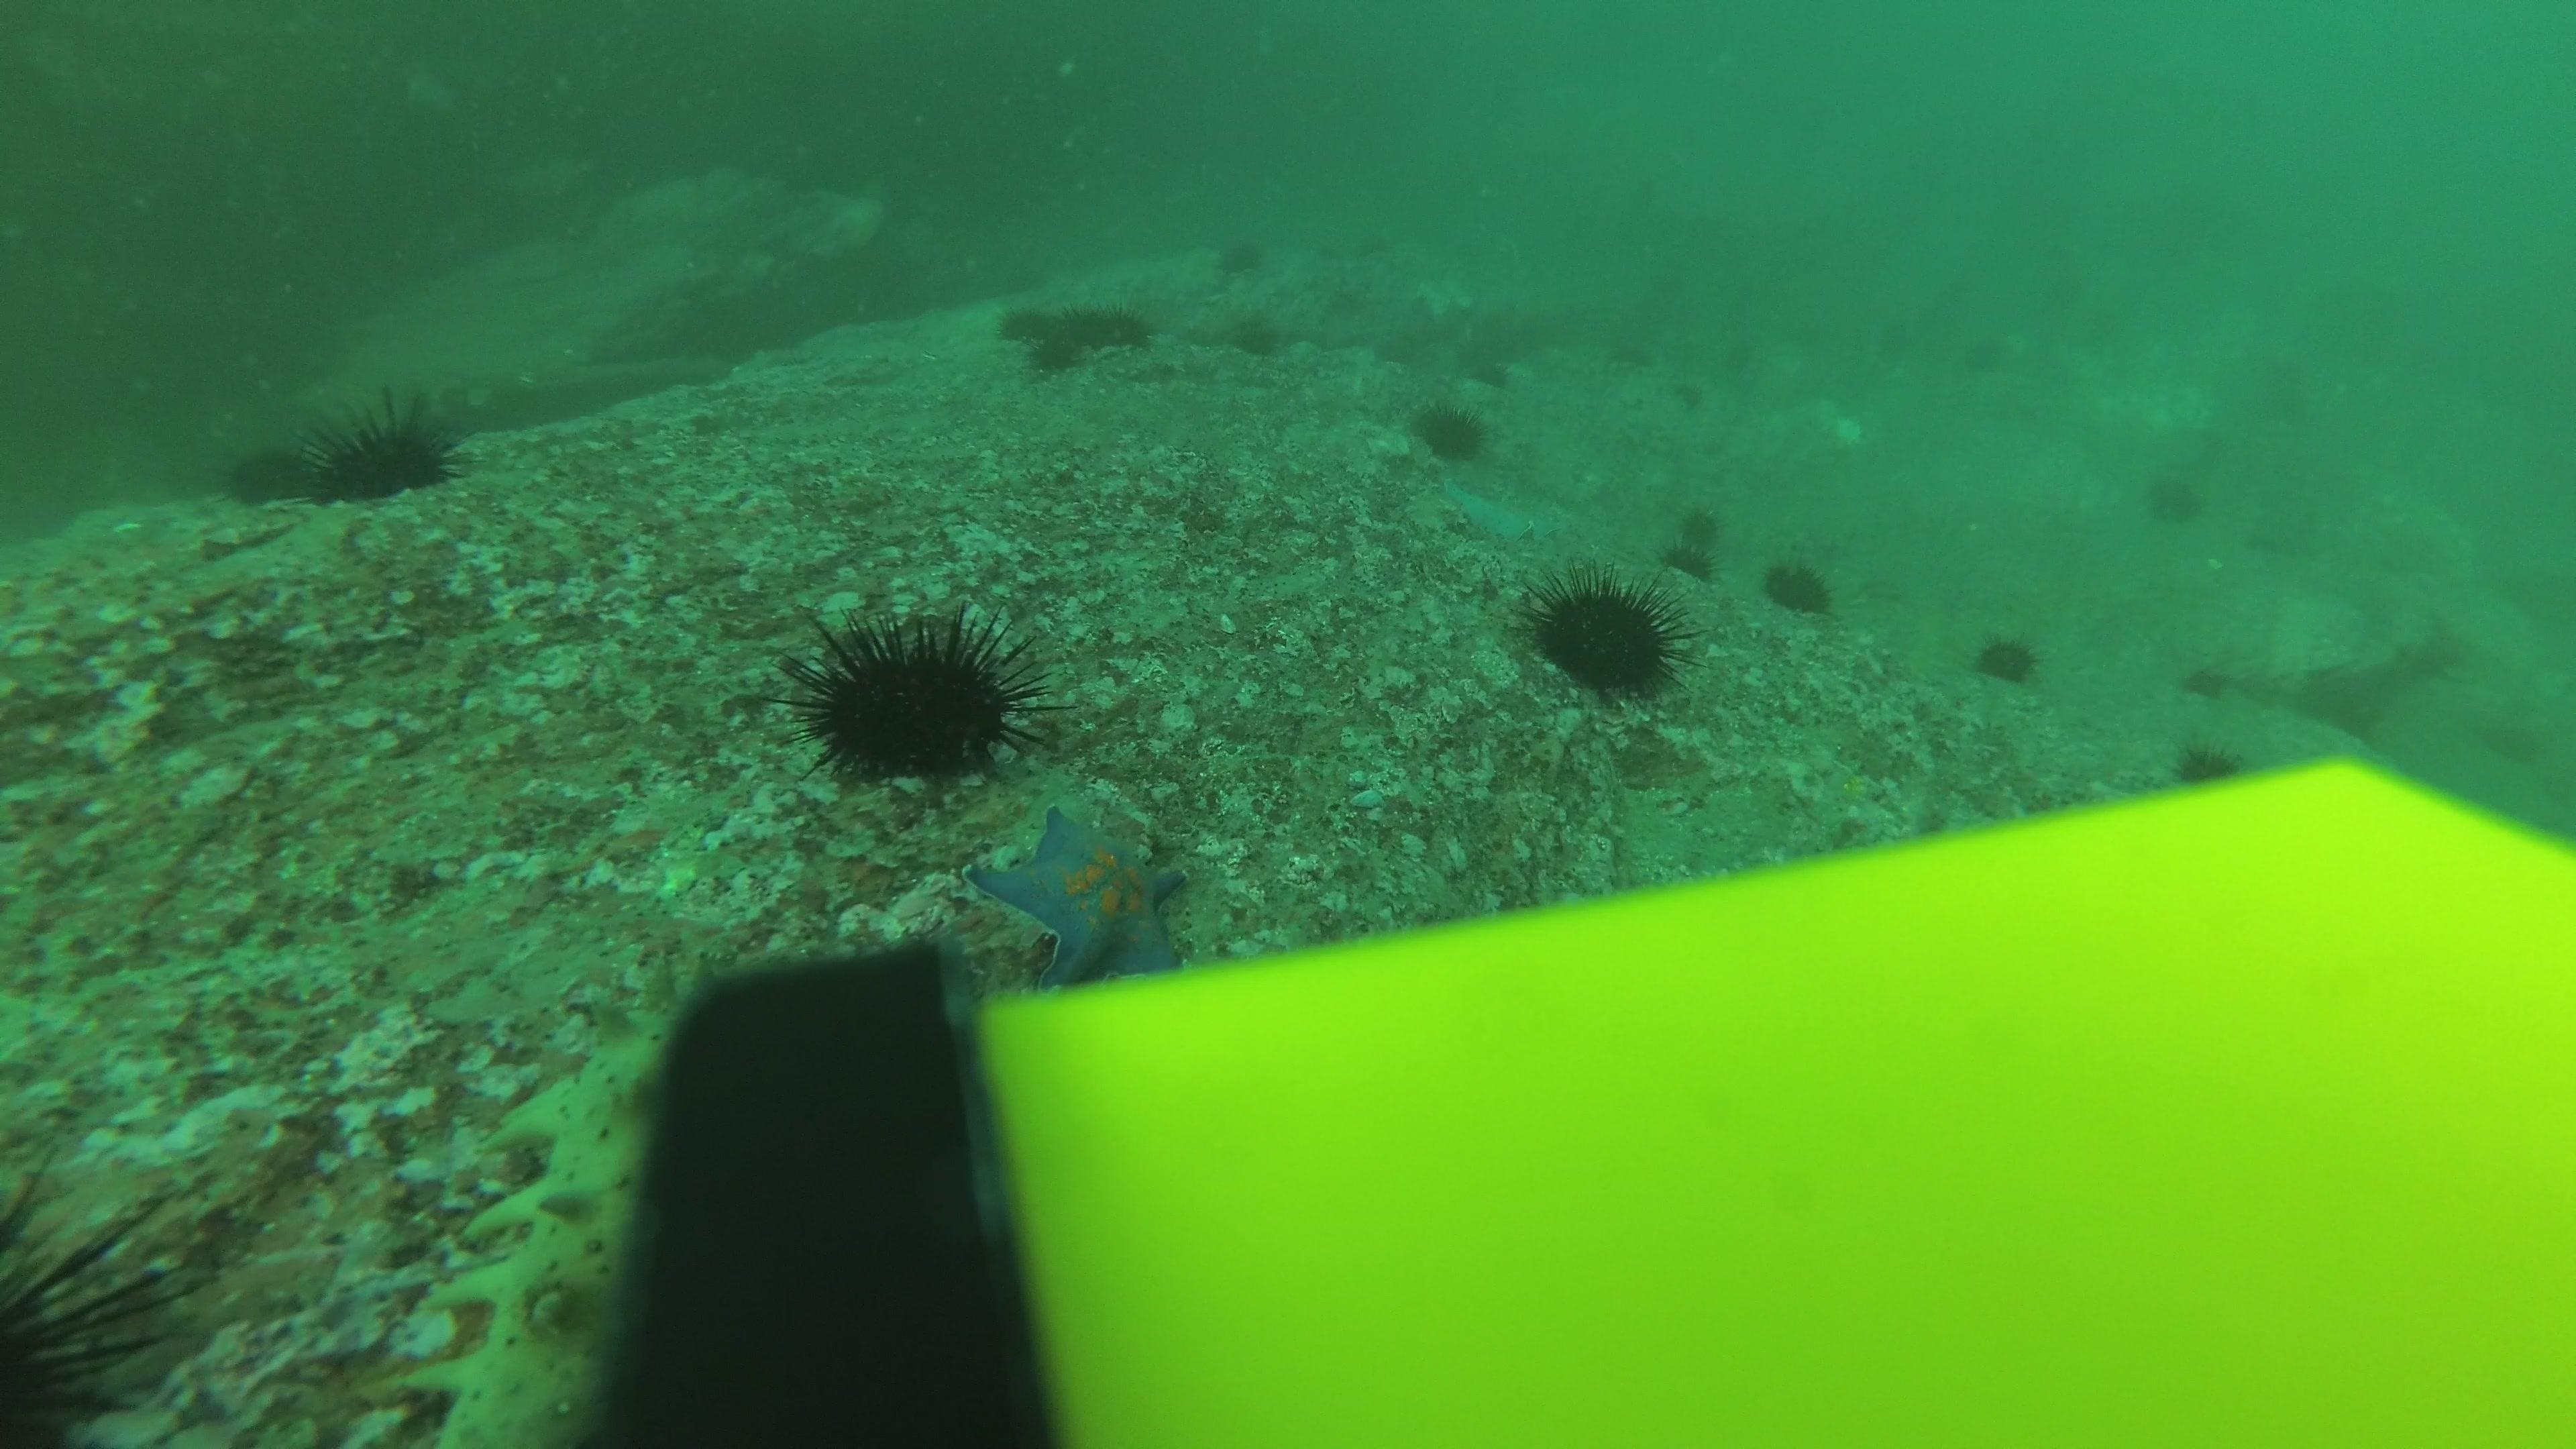echinus: (0, 1157, 202, 1435), (786, 598, 1051, 789), (1529, 570, 1684, 701), (304, 391, 462, 506), (225, 437, 317, 506), (1410, 395, 1490, 464), (1762, 550, 1836, 617), (2169, 732, 2243, 791), (2173, 649, 2247, 708), (2141, 464, 2208, 527), (1971, 626, 2042, 686), (1228, 310, 1286, 359), (994, 292, 1049, 341), (1026, 329, 1081, 379), (1044, 295, 1099, 345), (1090, 301, 1145, 350), (1215, 234, 1267, 280), (1663, 538, 1713, 577), (1679, 506, 1729, 545), (1610, 334, 1660, 373), (1465, 352, 1513, 391), (1667, 377, 1716, 414), (1304, 234, 1348, 265), (1353, 234, 1392, 260)
holothurian: (419, 945, 743, 1445)
starfish: (964, 800, 1192, 985), (1440, 479, 1541, 547), (1803, 752, 1897, 823)
